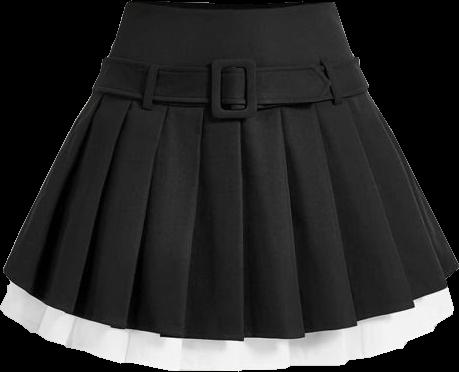Hemline: (1, 266, 458, 344), (0, 307, 458, 371)
Waistline: (93, 86, 365, 108), (125, 0, 332, 11)
